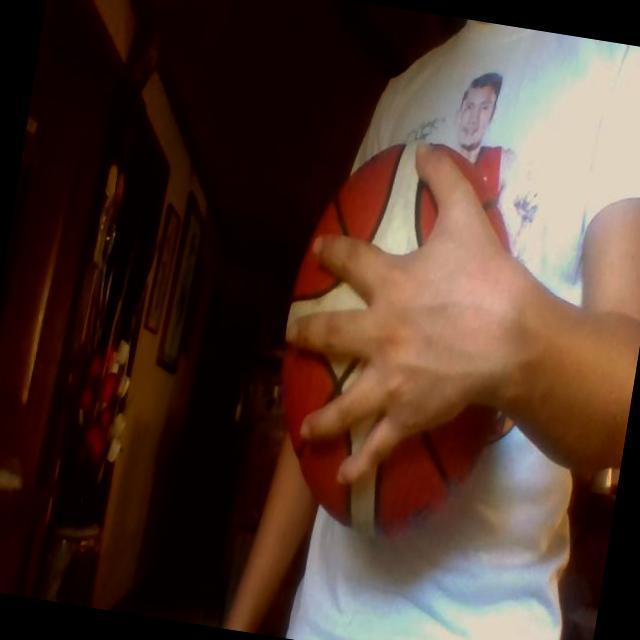ball: (282, 141, 512, 534)
